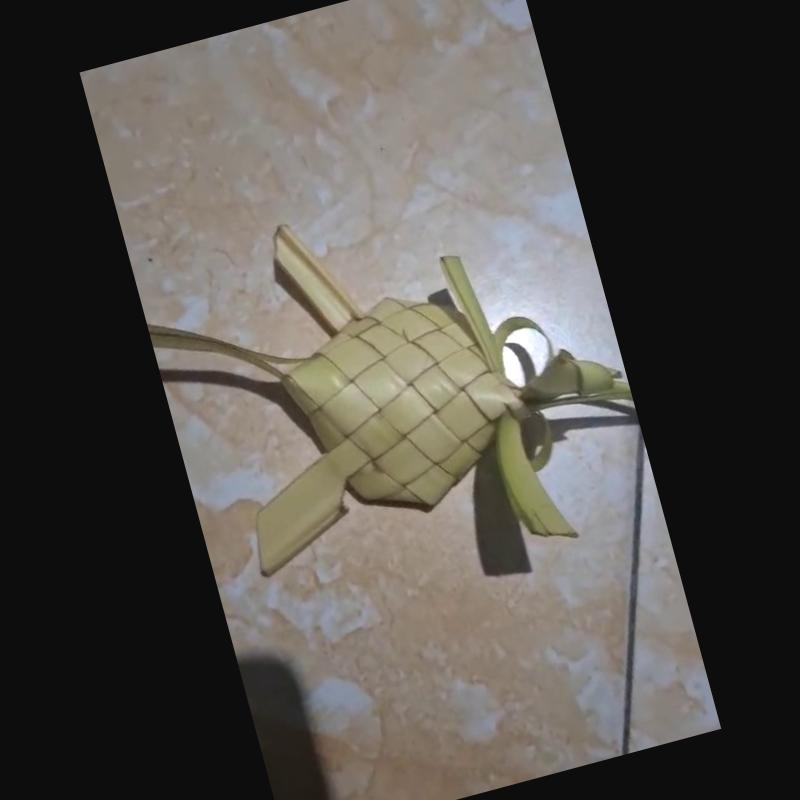Tipat Dampulan: (144, 204, 632, 586)
